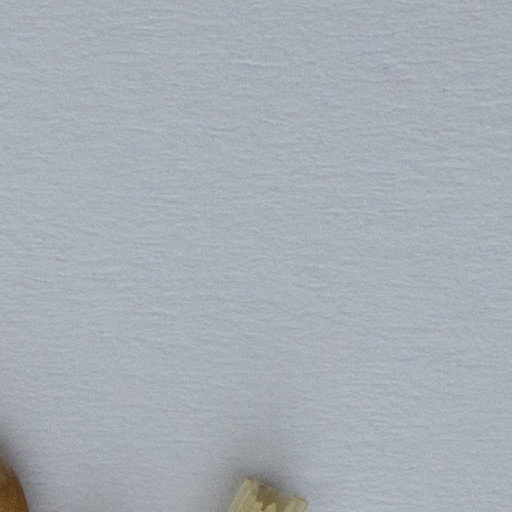Peel-poly: (227, 477, 306, 511)
